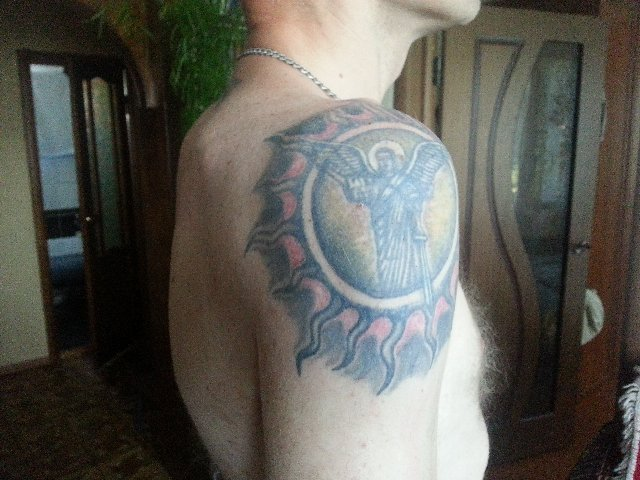tatu1_angel: (264, 131, 454, 315)
